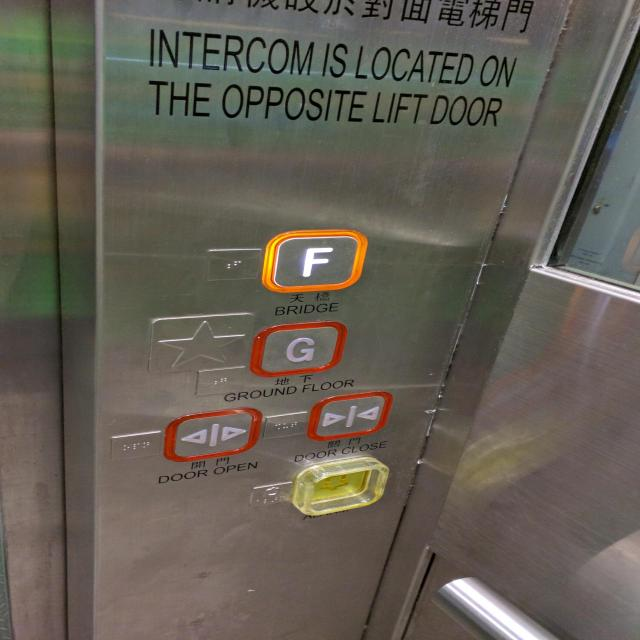F: (260, 229, 368, 294)
G: (246, 317, 349, 380)
alarm: (307, 464, 375, 510)
close: (304, 387, 395, 444)
open: (161, 406, 264, 464)
s: (149, 305, 250, 378)
